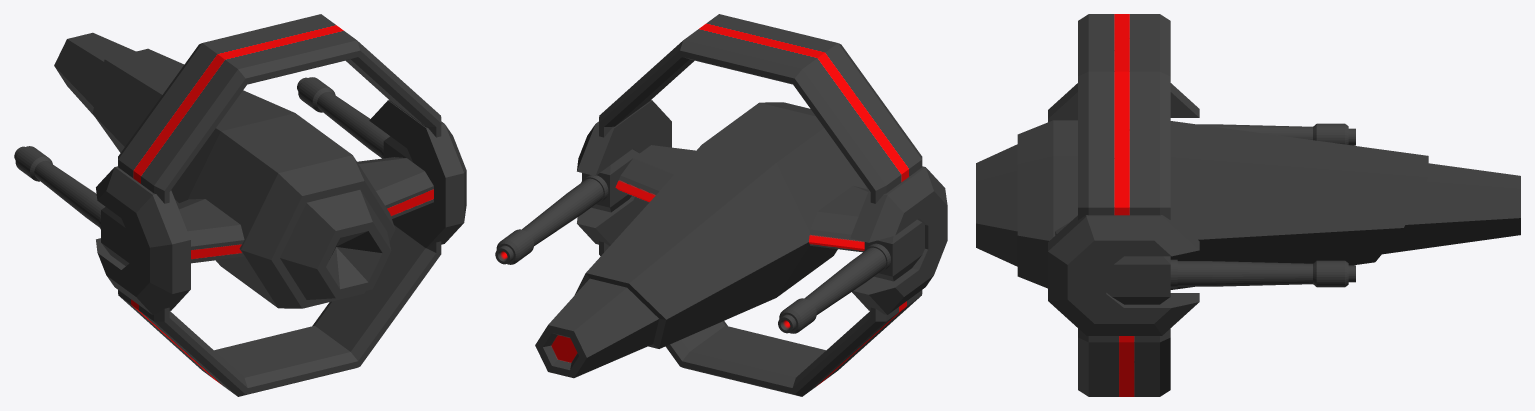
3 renders of one model, left to right at view 1: azimuth 30°, elevation 25°; view 2: azimuth 150°, elevation 25°; view 3: azimuth 270°, elevation 25°, orthographic.
Visible parts, largest first — view 1: Fighter; view 2: Fighter; view 3: Fighter.
Boxes of the visible parts, bbox=[...] form: Fighter: bbox=[14, 14, 466, 396]; Fighter: bbox=[495, 14, 947, 396]; Fighter: bbox=[976, 14, 1520, 396].
Size of the model in its own units: 10.51 by 10.39 by 15.77.
1 material, 1 textured.
